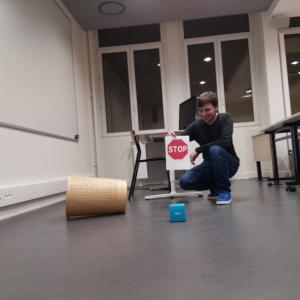medium: (65, 174, 127, 217)
small: (169, 203, 187, 222)
